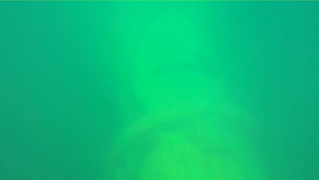1: (153, 51, 220, 79)
pipe: (106, 1, 266, 179)
